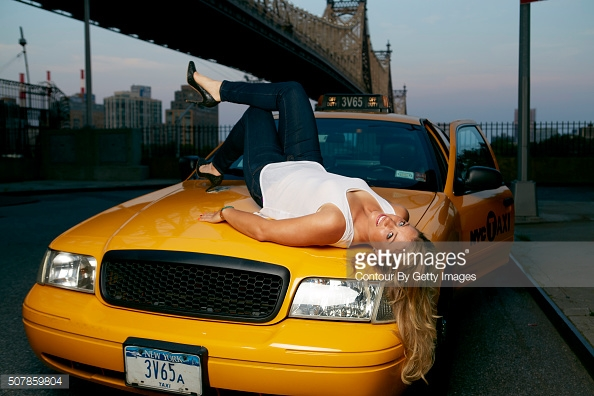deitado: (170, 49, 395, 248)
